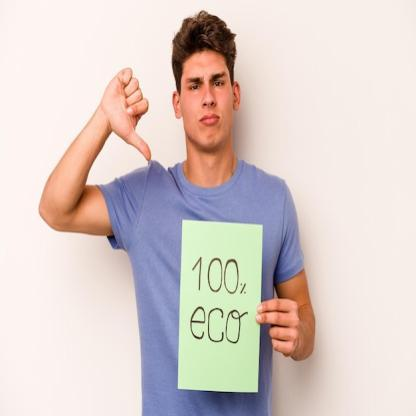thumb_down: (98, 64, 154, 164)
